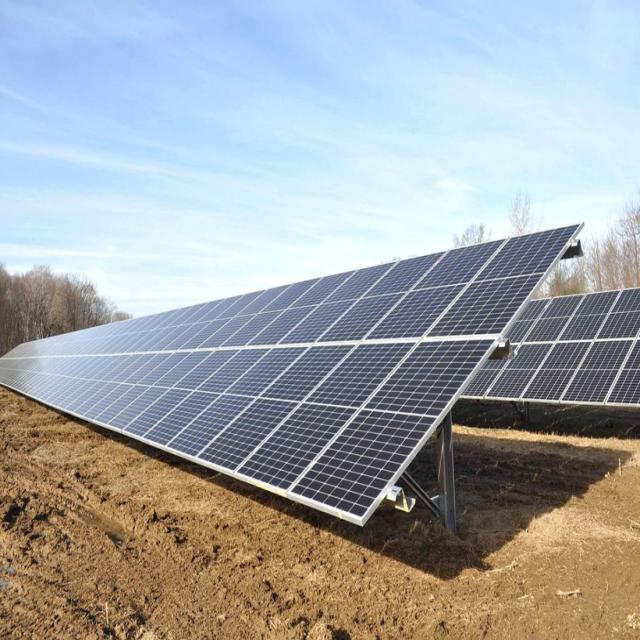clean-solar-panel: (0, 224, 581, 525)
